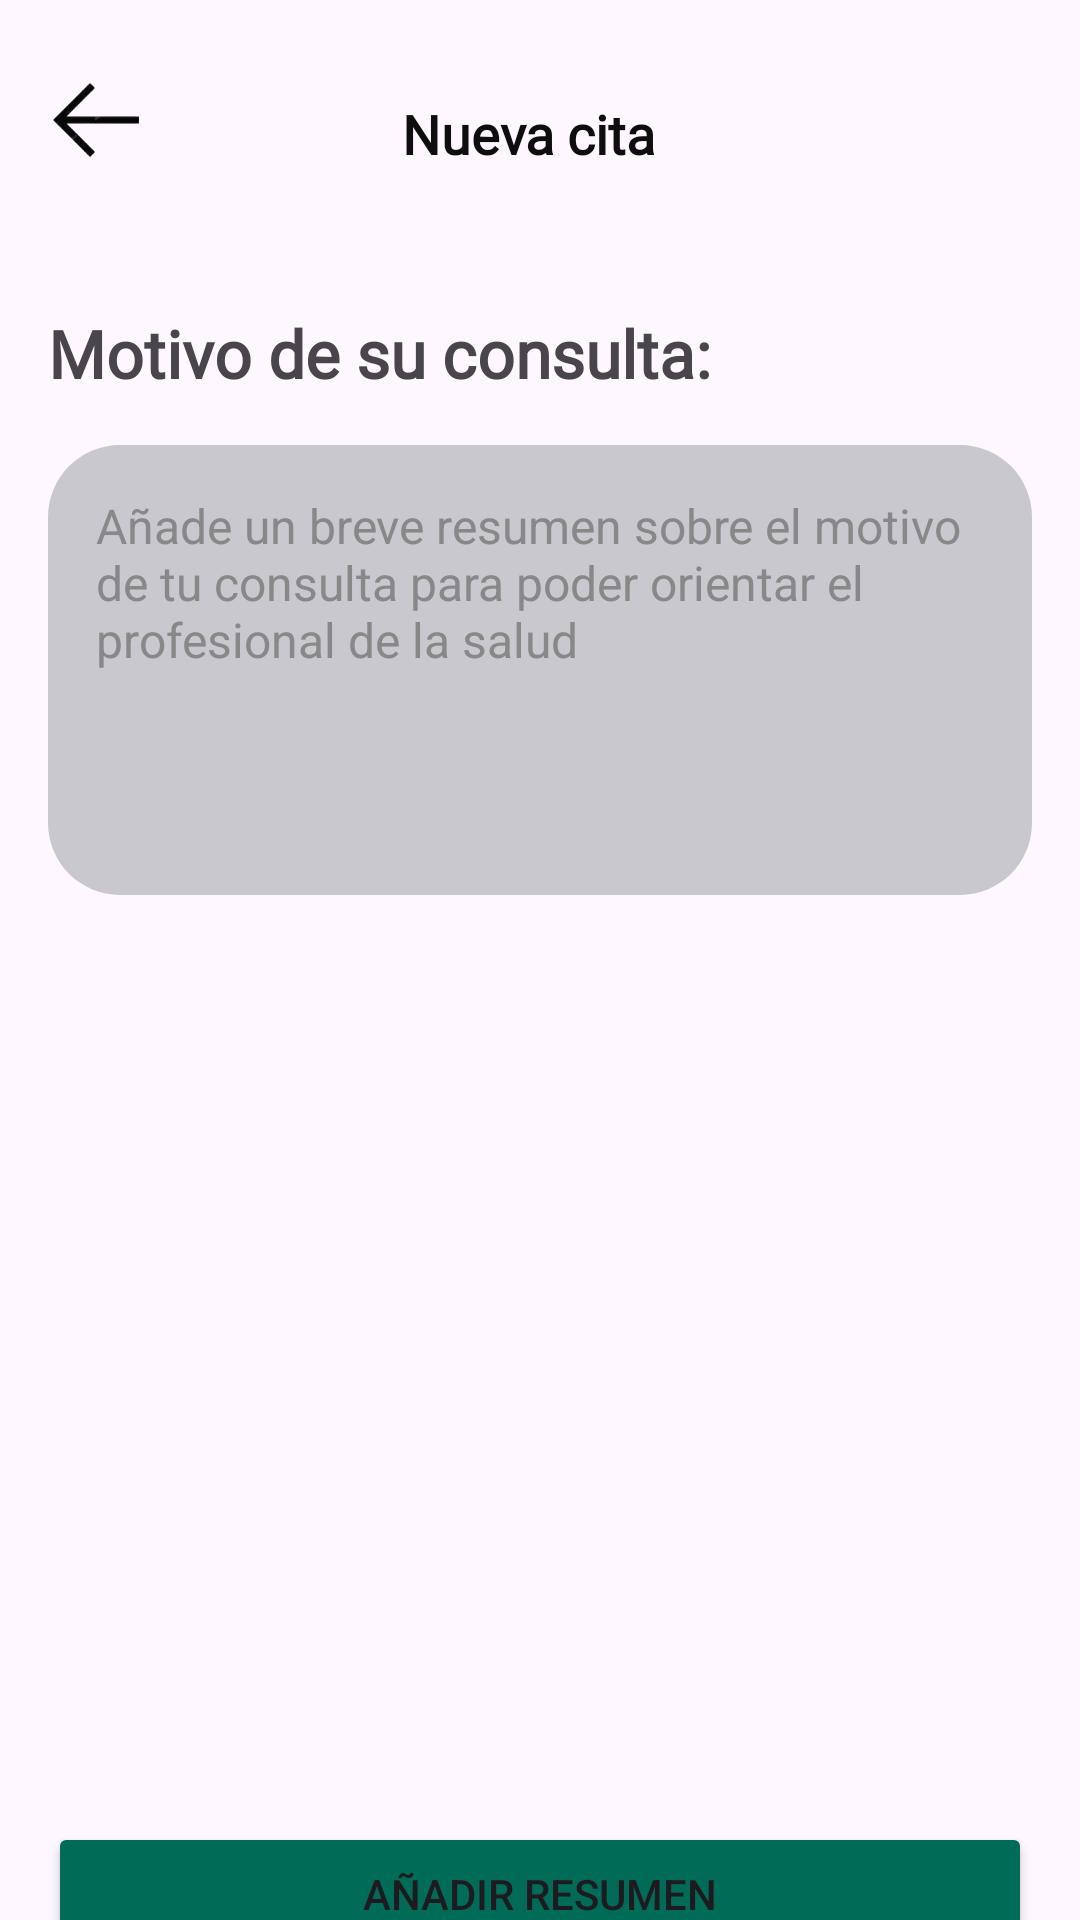

Screen size 1080 × 1920. Icon name, then its center in pixels as [x,y]:
Botón para regresar a la pantalla principal: [96,120]
